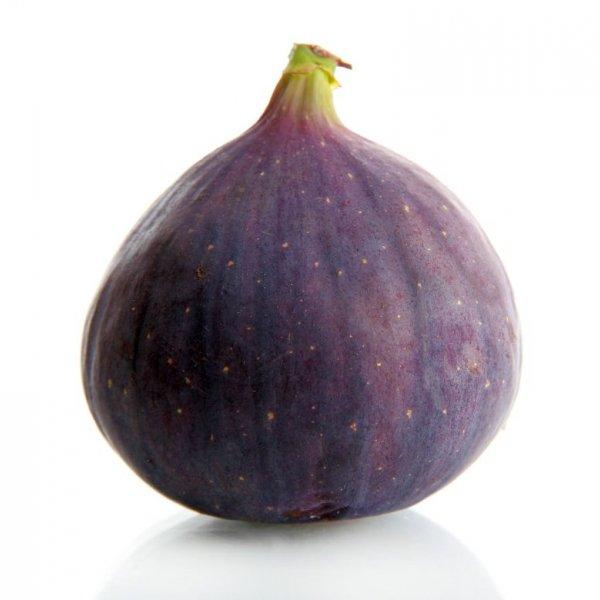fig: (79, 41, 522, 525)
